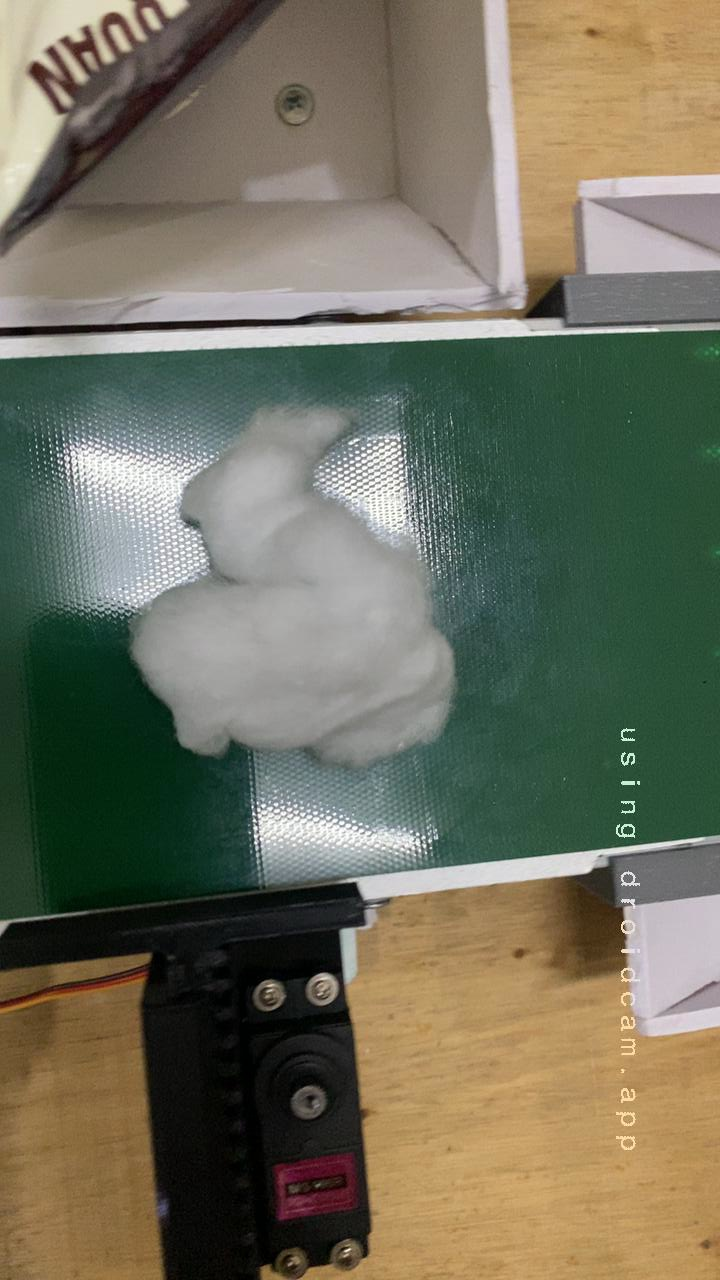cotton: (102, 375, 495, 796)
